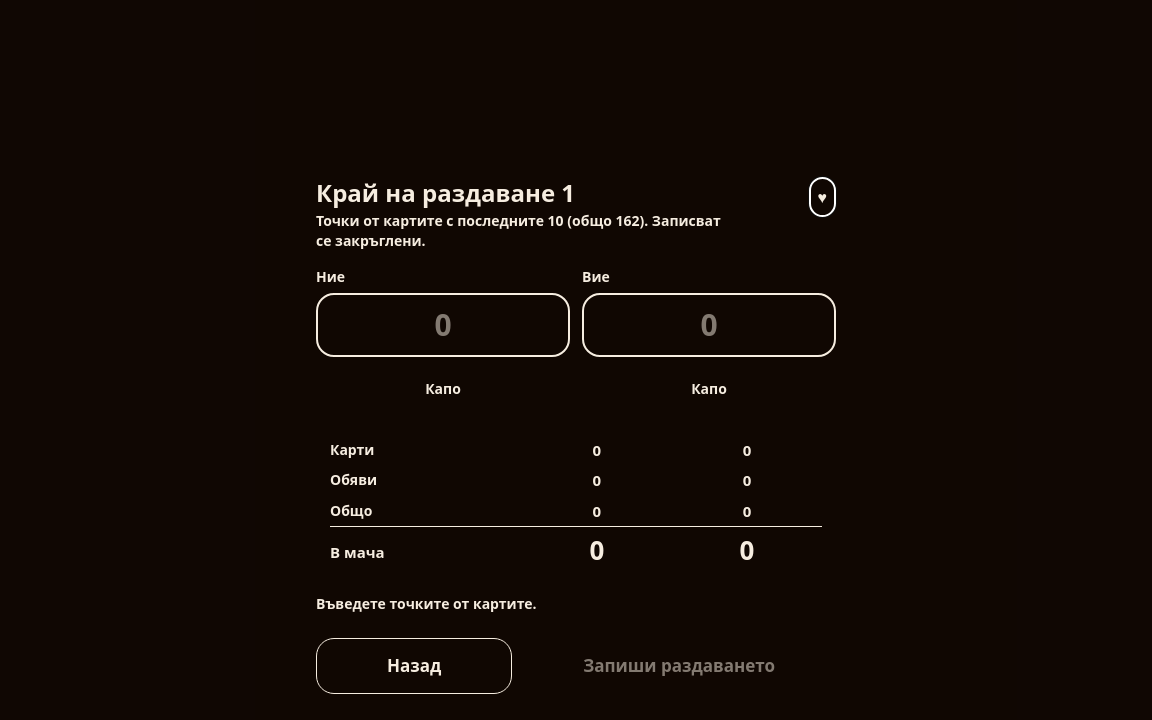
Scenario: DealEndSheet, step 2 › labels the inputs by team name, numeric, and fills the other with 162 − value (ADR 0020)
Step 1. Type "100" into the field labelled "Ние" → x=443, y=324, box x1=316 y1=292 x2=570 y2=356
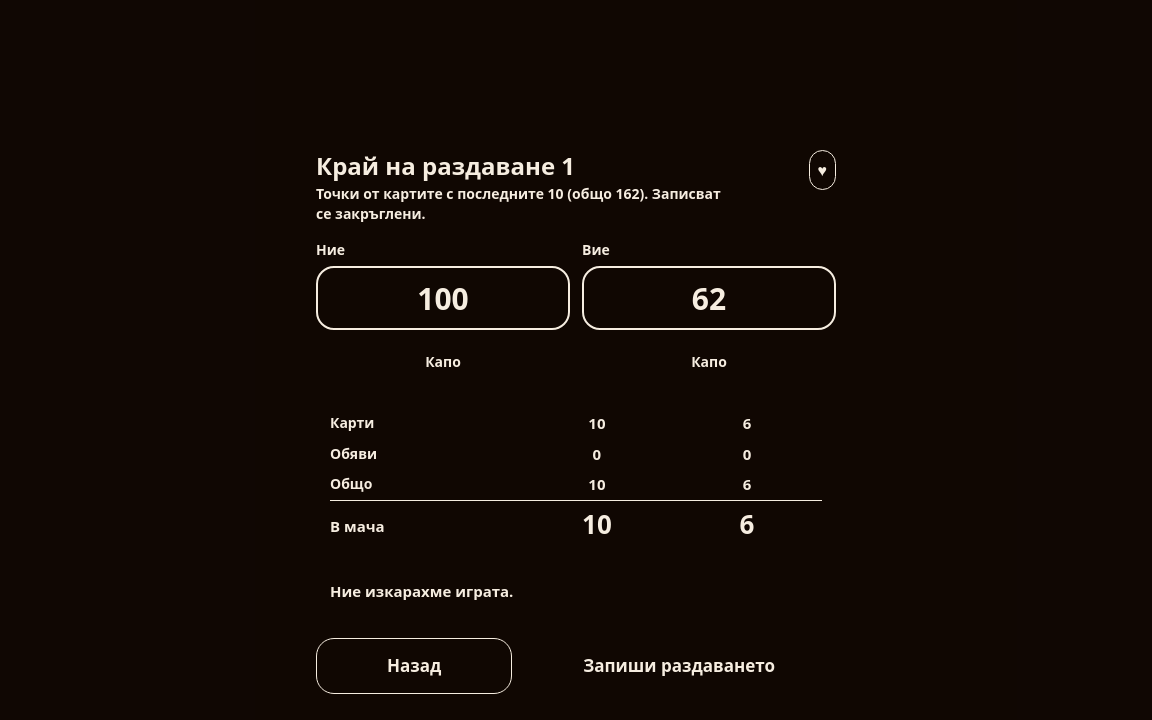
Result: the field labelled "Вие" holds "62"
Step 2. Clear the field labelled "Вие" → x=709, y=298, box x1=582 y1=266 x2=836 y2=330
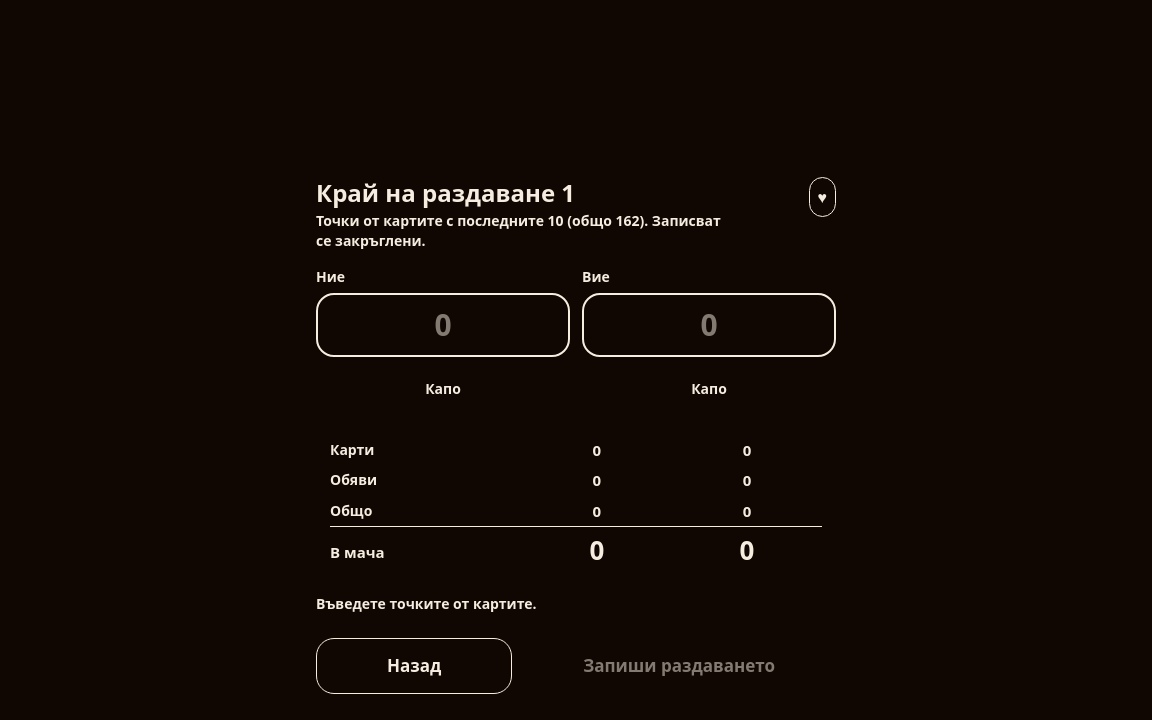
Result: the field labelled "Ние" is empty at x1=316 y1=292 x2=570 y2=356
Step 3. Type "40" into the field labelled "Вие" → x=709, y=324, box x1=582 y1=292 x2=836 y2=356
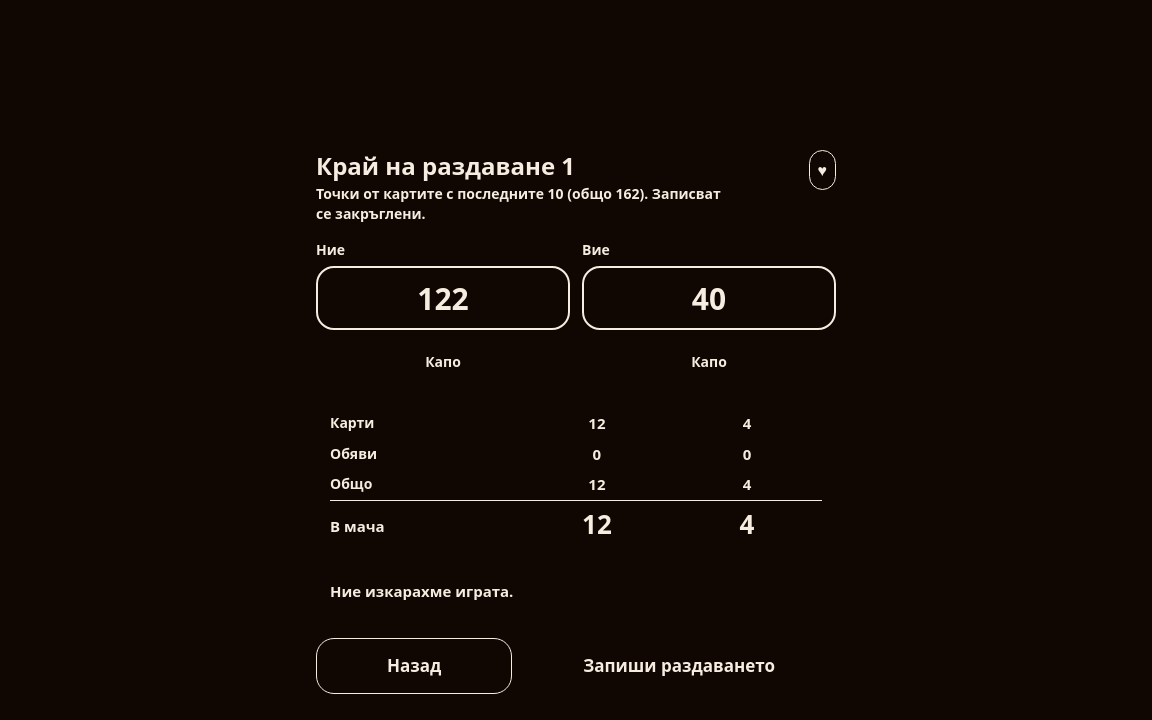
Result: the field labelled "Ние" holds "122" at x1=316 y1=266 x2=570 y2=330
